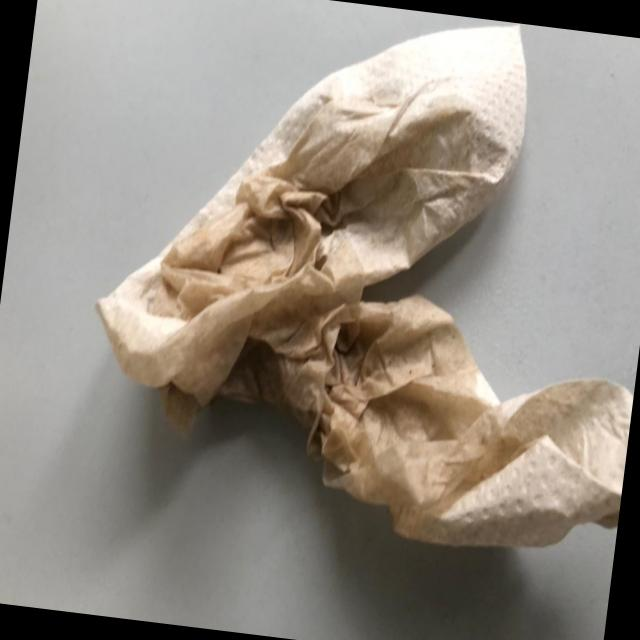organic waste: (70, 0, 640, 566)
